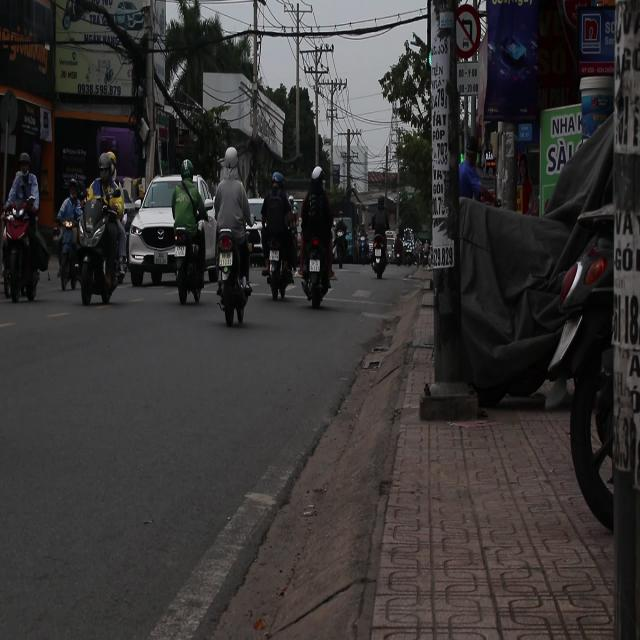car: (127, 172, 210, 290)
motorbike: (74, 198, 127, 304), (1, 203, 48, 303), (215, 226, 253, 327), (263, 226, 298, 302), (298, 231, 333, 307), (332, 221, 350, 268), (370, 233, 388, 278), (396, 232, 417, 266)
